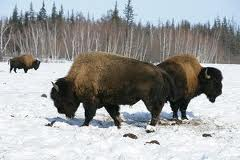zubr: (39, 43, 174, 145), (142, 38, 228, 121), (3, 51, 45, 74)
